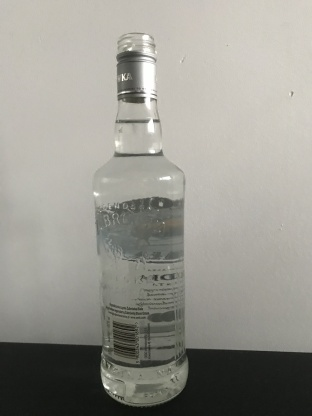nakretka: (114, 31, 158, 103)
